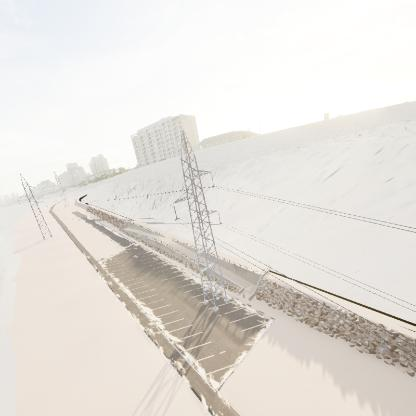tower: (167, 126, 233, 315), (14, 172, 58, 241)
